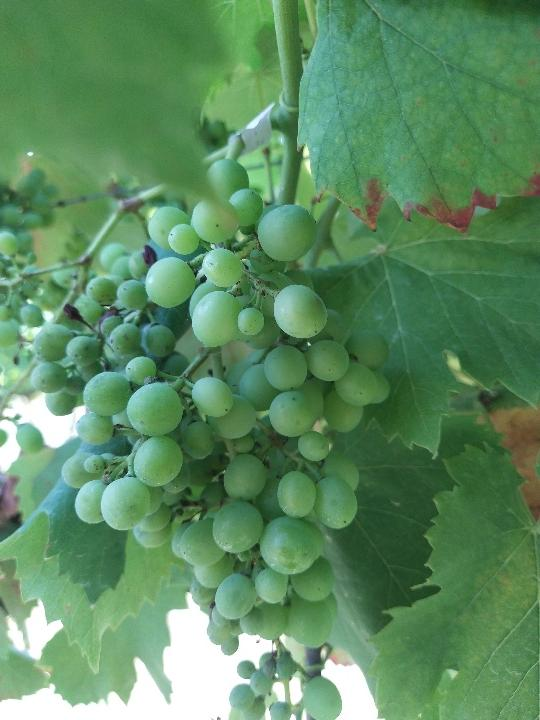grape: (27, 157, 391, 661)
